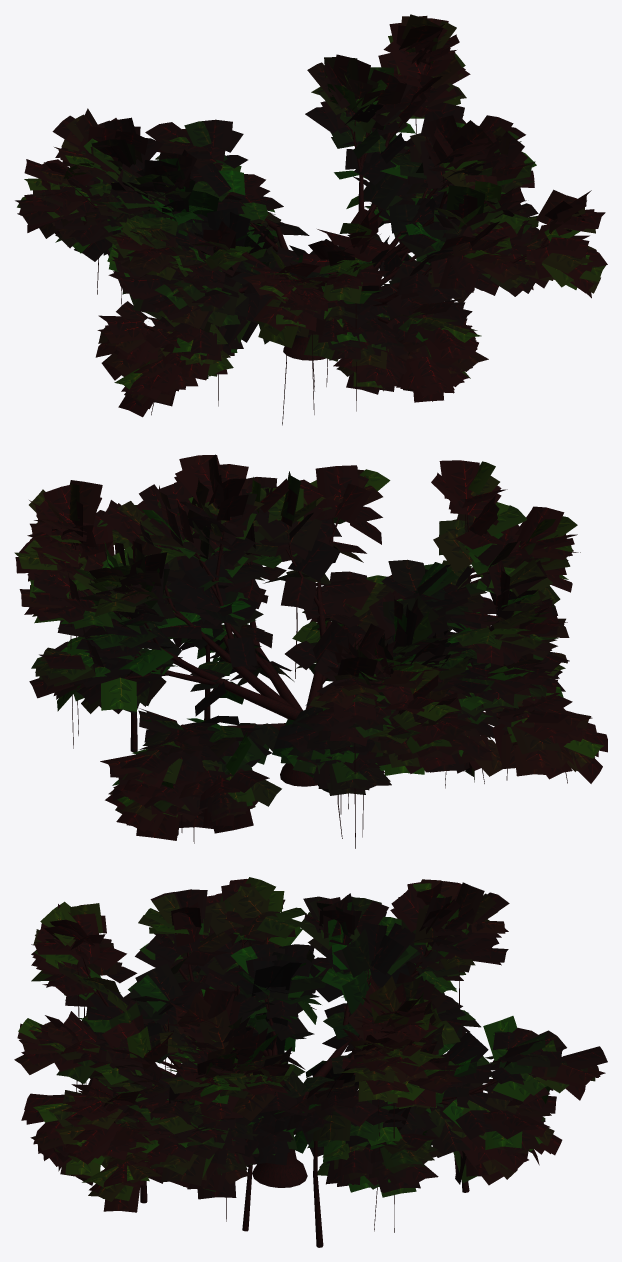
File: veg_banyan1.glb
3 views of the same model, one above another, from view 1: azimuth 30°, elevation 25°; view 2: azimuth 150°, elevation 25°; view 3: azimuth 270°, elevation 25° (orthographic). The views are drawn at different scales.
Visible parts, largest first — view 1: banyan_1; view 2: banyan_1; view 3: banyan_1.
Part boxes in pixels (x1,y1,x2,y2): banyan_1: (15, 14, 607, 425); banyan_1: (14, 454, 607, 848); banyan_1: (14, 877, 607, 1247).
Size of the model in its own units: 28.7 by 16.11 by 30.79.
Materials: 2 (2 with a texture image).
